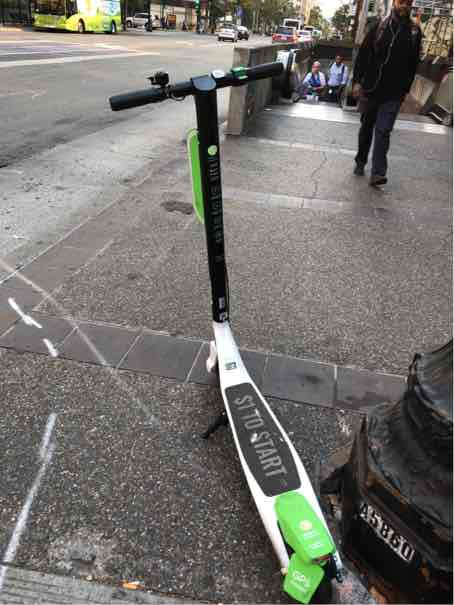scooter: (102, 59, 354, 605)
